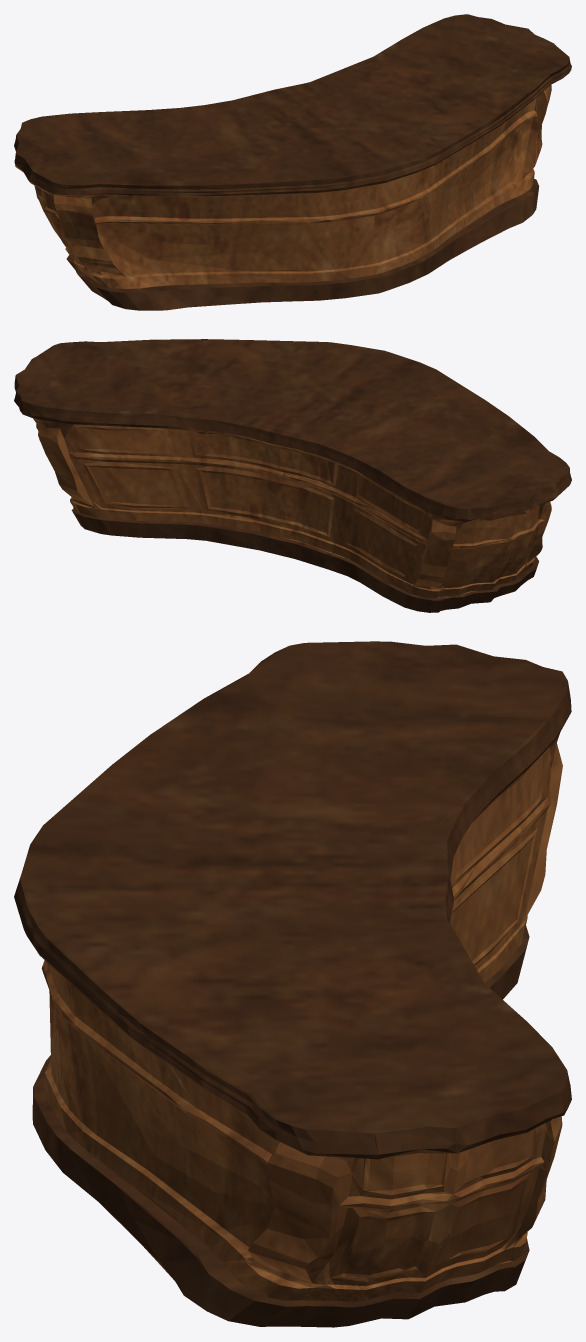
Rendered from Potion_Table.fbx.
3 renders of one model, top to bottom at view 1: azimuth 30°, elevation 25°; view 2: azimuth 150°, elevation 25°; view 3: azimuth 270°, elevation 25°, orthographic. The views are drawn at different scales.
Visible parts, largest first — view 1: potion_table; view 2: potion_table; view 3: potion_table.
Part boxes in pixels (box(x1,y1,x2,y2)): potion_table: box(14, 14, 571, 310); potion_table: box(14, 339, 571, 612); potion_table: box(14, 641, 571, 1327).
Bounding box in the file's own units: 3.59 × 0.8448 × 1.7.
